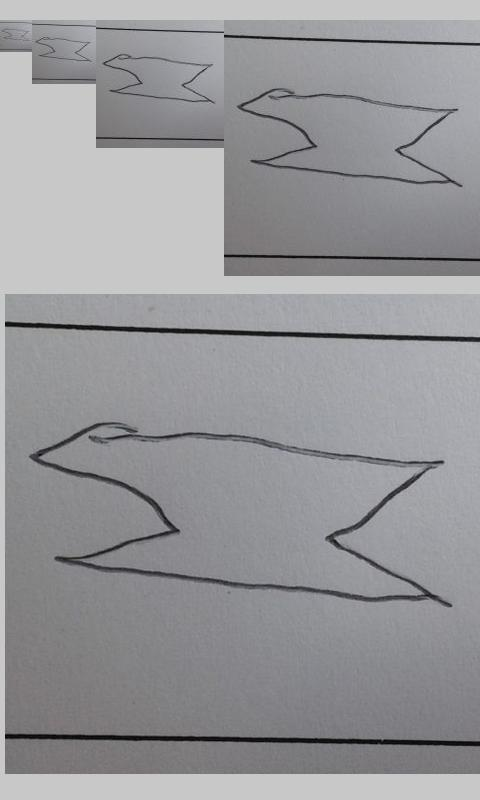edit_text: (28, 422, 444, 606), (236, 86, 458, 187), (101, 53, 212, 104), (35, 36, 91, 62), (2, 28, 30, 42)
